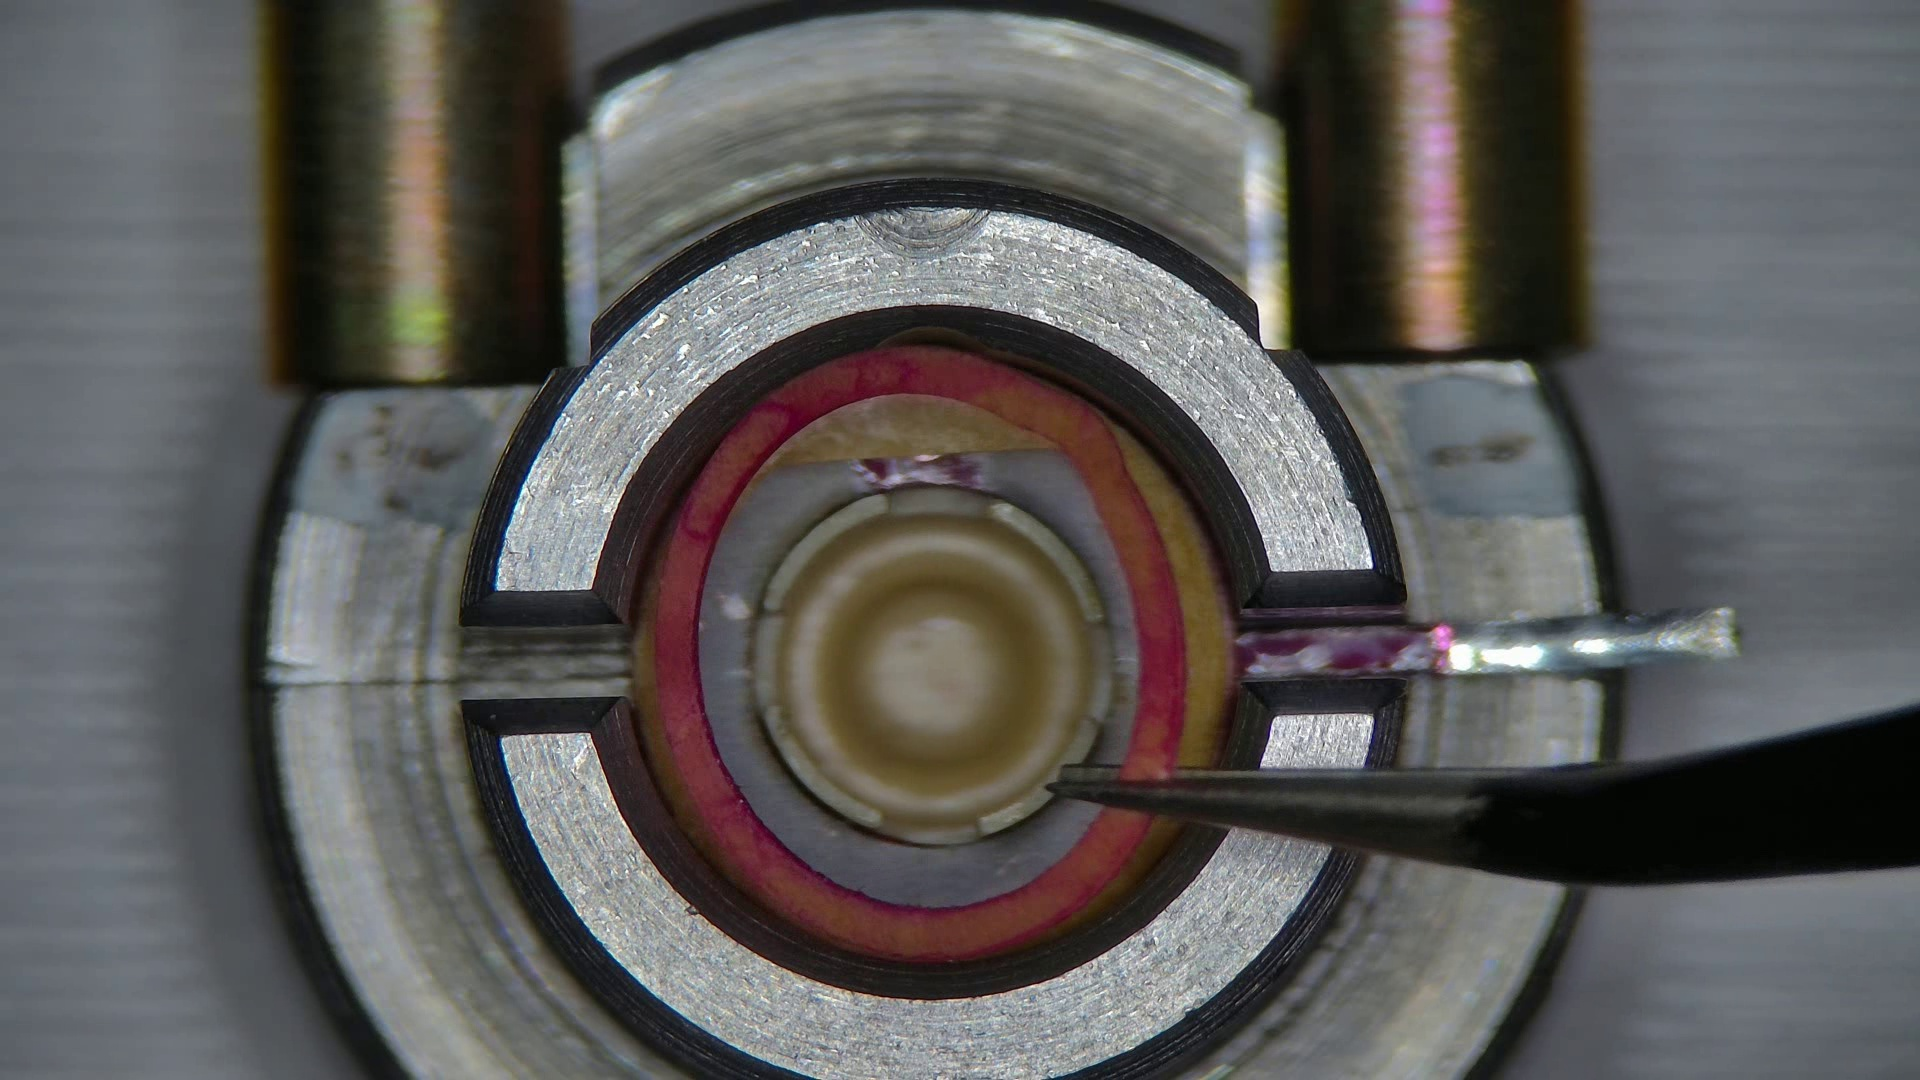GreyOring: (649, 345, 1191, 964)
YellowOring: (699, 454, 1139, 906)
redOring: (1120, 440, 1232, 765), (632, 583, 703, 843), (777, 397, 1047, 462)
